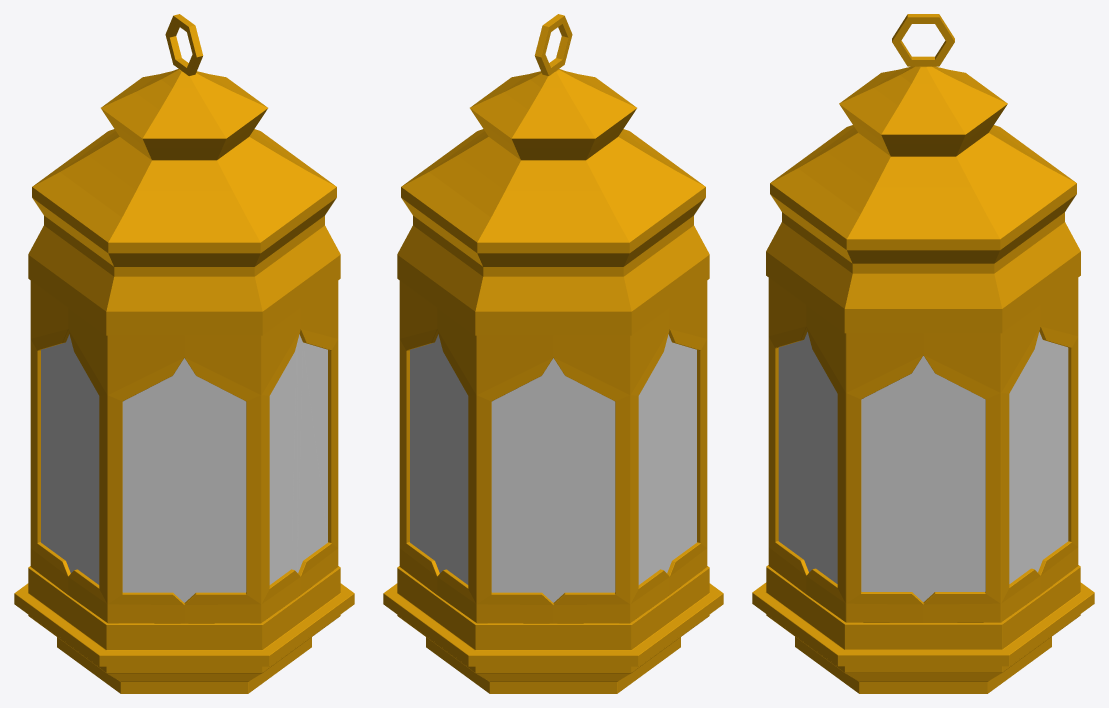
Rendered from Lantern.fbx.
3 views of the same model, side by side, from view 1: azimuth 30°, elevation 25°; view 2: azimuth 150°, elevation 25°; view 3: azimuth 270°, elevation 25° (orthographic).
Parts seen in each view (by area): view 1: Cylinder.003, Cylinder.002, Cylinder.001, Cylinder, Cylinder.004; view 2: Cylinder.003, Cylinder.002, Cylinder.001, Cylinder, Cylinder.004; view 3: Cylinder.003, Cylinder.002, Cylinder.001, Cylinder, Cylinder.004.
Part boxes in pixels (<box>): Cylinder.003: <box>28,69,340,335</box>; Cylinder.002: <box>41,334,327,602</box>; Cylinder.001: <box>30,280,338,623</box>; Cylinder: <box>14,566,354,693</box>; Cylinder.004: <box>165,14,203,75</box>; Cylinder.003: <box>397,69,709,335</box>; Cylinder.002: <box>410,334,696,602</box>; Cylinder.001: <box>399,280,707,623</box>; Cylinder: <box>383,566,723,693</box>; Cylinder.004: <box>534,14,572,75</box>; Cylinder.003: <box>766,66,1080,333</box>; Cylinder.002: <box>778,332,1068,601</box>; Cylinder.001: <box>768,278,1078,622</box>; Cylinder: <box>752,565,1094,693</box>; Cylinder.004: <box>892,14,954,66</box>.
Bounding box in the file's own units: 189 × 443 × 218.
